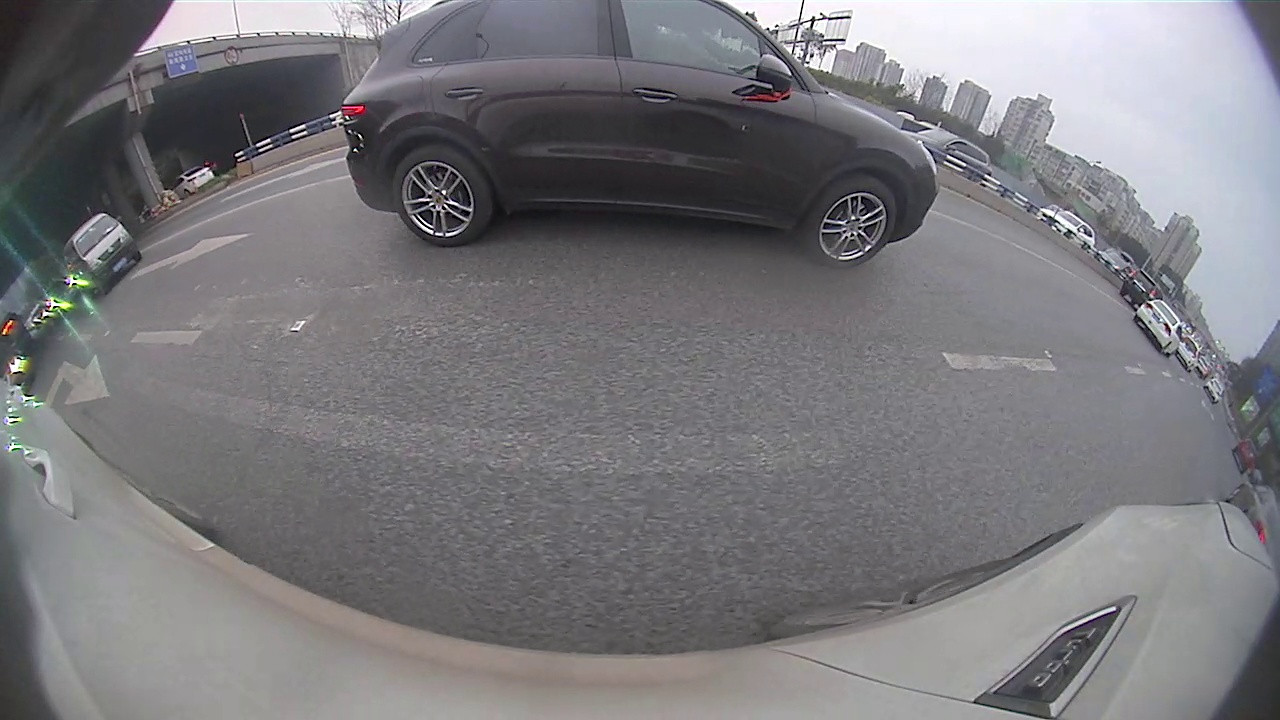car: (339, 1, 939, 271), (61, 210, 142, 298), (919, 129, 995, 180), (1134, 296, 1182, 360), (1121, 268, 1165, 308), (171, 164, 215, 199)
front: (805, 175, 897, 270)
rear: (392, 148, 490, 251)
